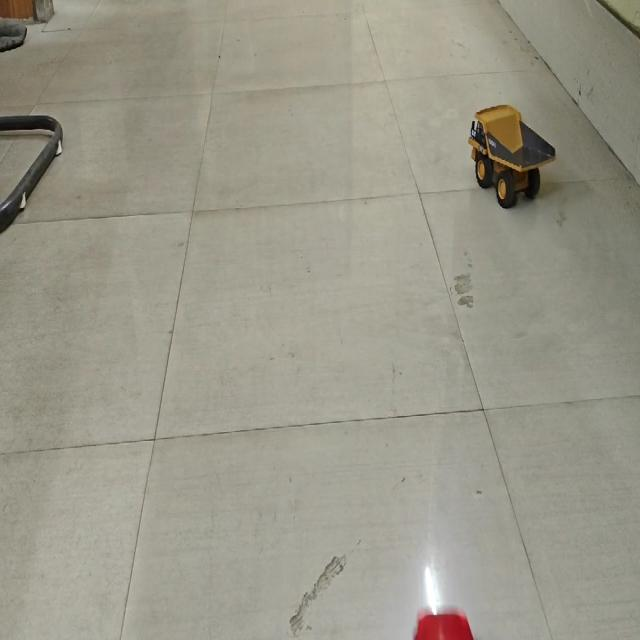dump_truck: (471, 95, 557, 202)
